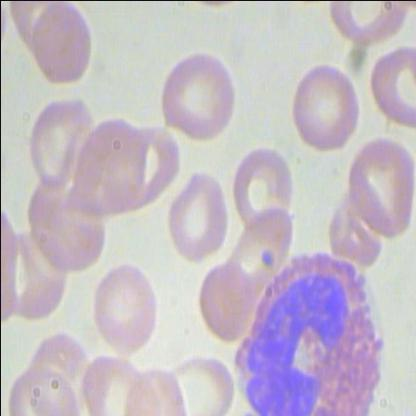RBC: (151, 46, 238, 141), (87, 257, 166, 357), (345, 136, 415, 244), (287, 58, 361, 156), (165, 161, 229, 265), (226, 138, 291, 237), (27, 1, 96, 93), (195, 256, 255, 344), (3, 360, 82, 415), (0, 207, 22, 328)
WBC: (232, 244, 394, 415)
